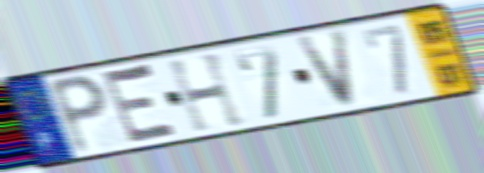7: (359, 21, 412, 99), (230, 42, 281, 122)
E: (99, 61, 184, 148)
H: (164, 49, 250, 136)
P: (45, 72, 112, 158)
V: (294, 26, 357, 112)
